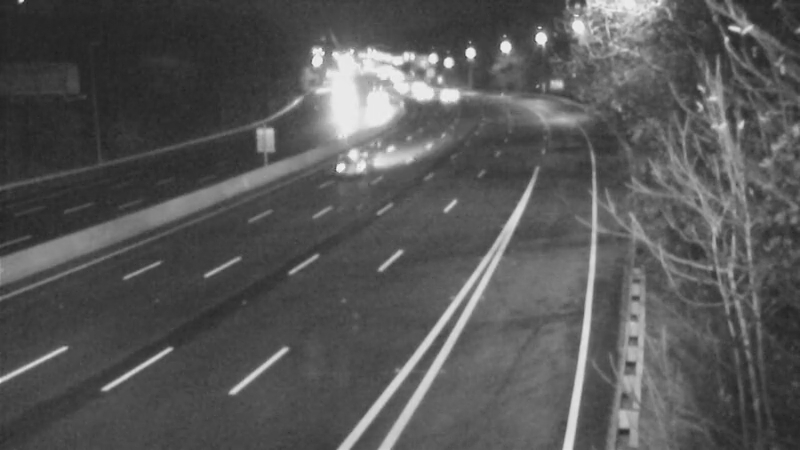vehicle: (315, 126, 395, 206), (403, 69, 453, 119), (420, 71, 470, 121), (346, 68, 396, 118)
